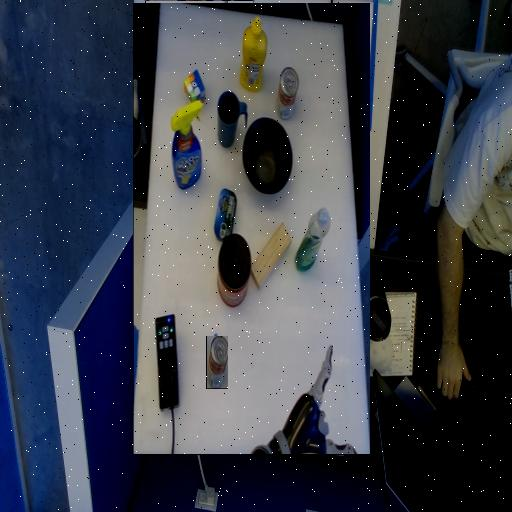bowl: (212, 262, 261, 337)
cleanser: (174, 186, 209, 248)
coffee_can: (253, 169, 286, 201)
jaco: (146, 1, 253, 110)
meat_can: (267, 216, 289, 268)
mug: (257, 309, 286, 364)
mustard_bottle: (238, 365, 263, 438)
rubik: (300, 353, 320, 387)
soup_can: (207, 336, 227, 388)
windex: (302, 296, 333, 326)
wooden_block: (212, 179, 253, 219)
workspace: (134, 3, 370, 454)
